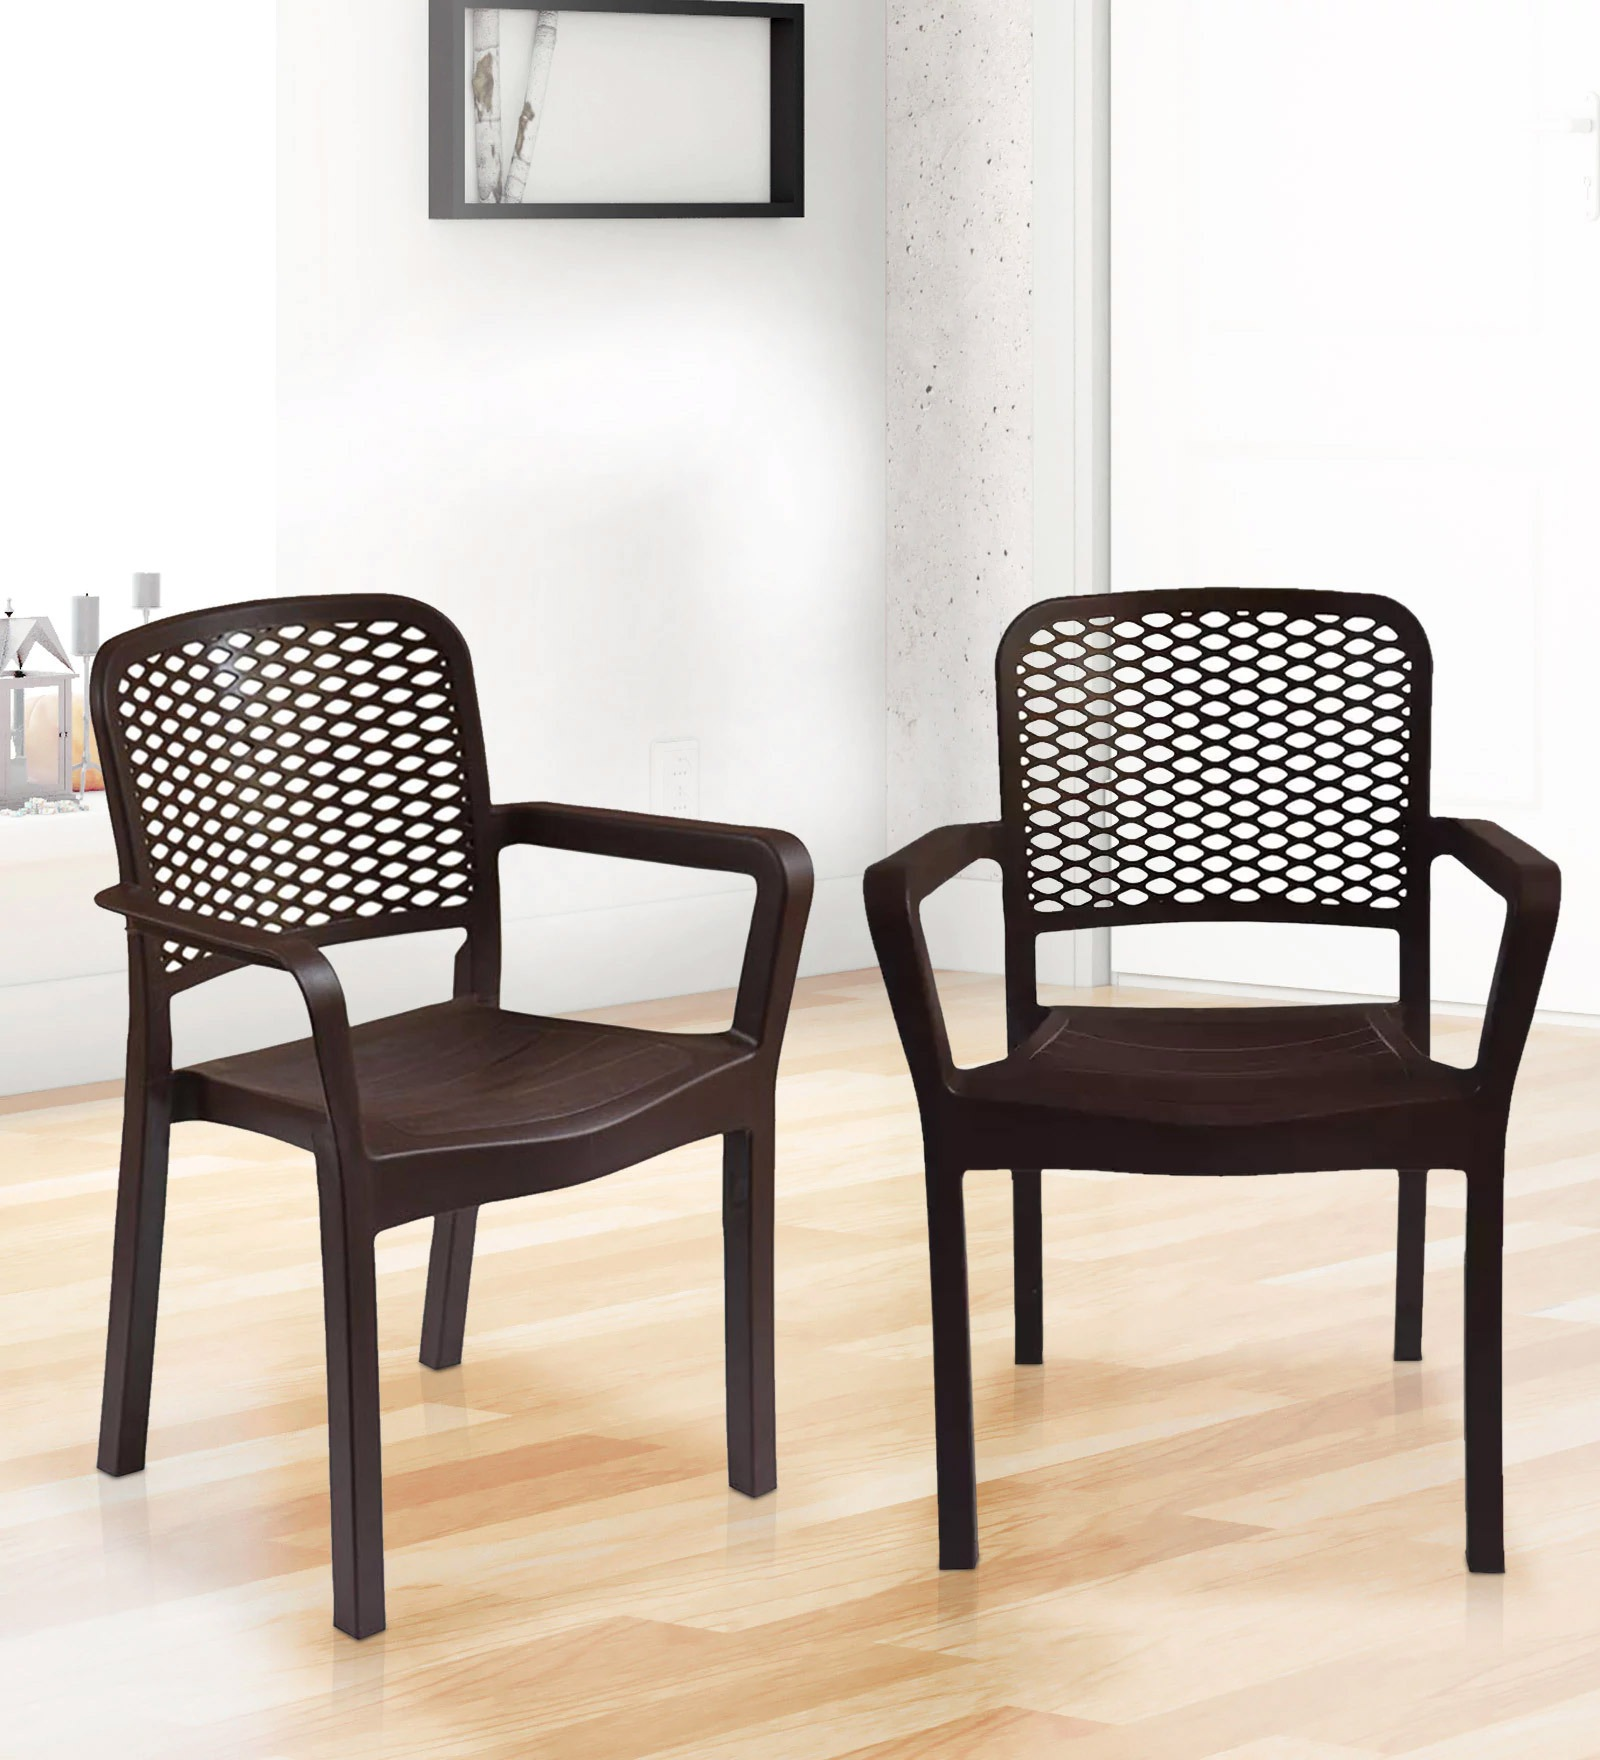Luxury Plastic Chair (Set of 2) in Brown Colour by Italica Furniture: (78, 586, 818, 1637), (860, 581, 1565, 1578)
